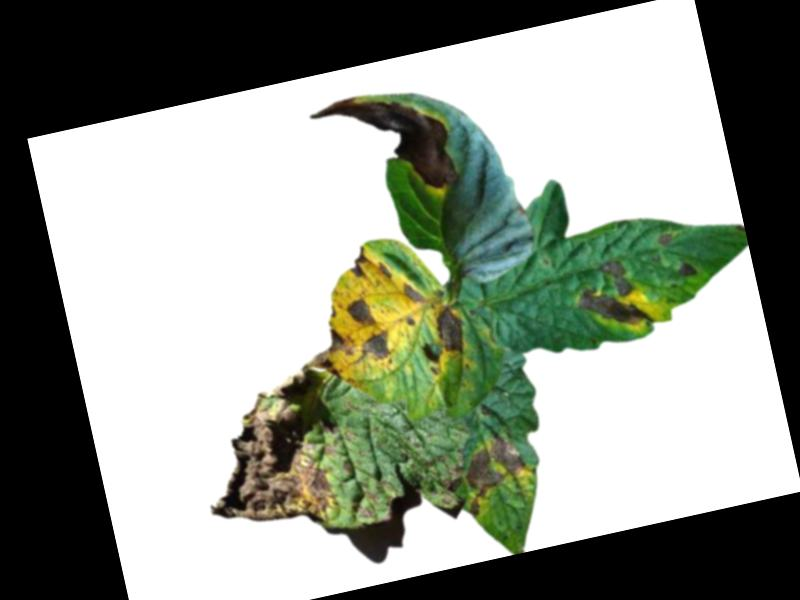Early_blight: (185, 366, 346, 544), (307, 78, 460, 212), (452, 429, 534, 522), (570, 252, 653, 337), (295, 321, 361, 388), (428, 298, 469, 358), (357, 328, 396, 369), (434, 461, 464, 510), (343, 295, 376, 330), (344, 243, 372, 280), (399, 279, 427, 305), (352, 499, 376, 523), (677, 257, 698, 279), (377, 259, 391, 277), (655, 232, 673, 245)
